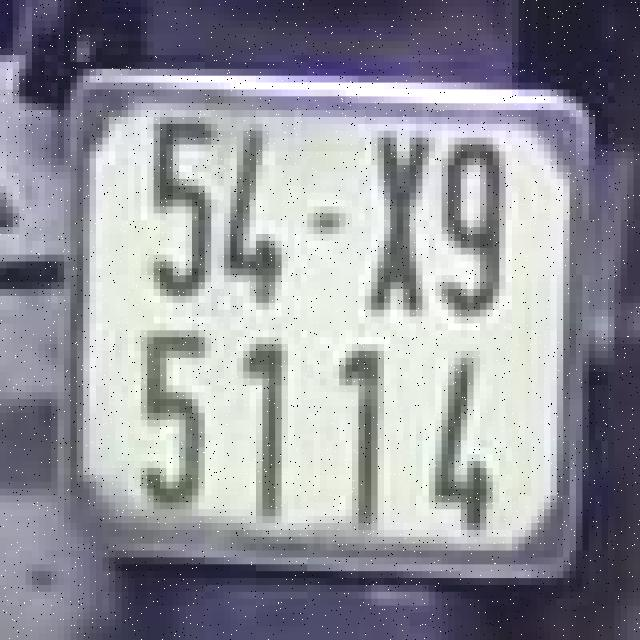1: (243, 334, 301, 533), (336, 330, 387, 550)
4: (419, 354, 509, 540), (218, 100, 294, 320)
5: (125, 320, 214, 520), (140, 114, 218, 306)
9: (436, 127, 518, 341)
X: (365, 127, 429, 320)
